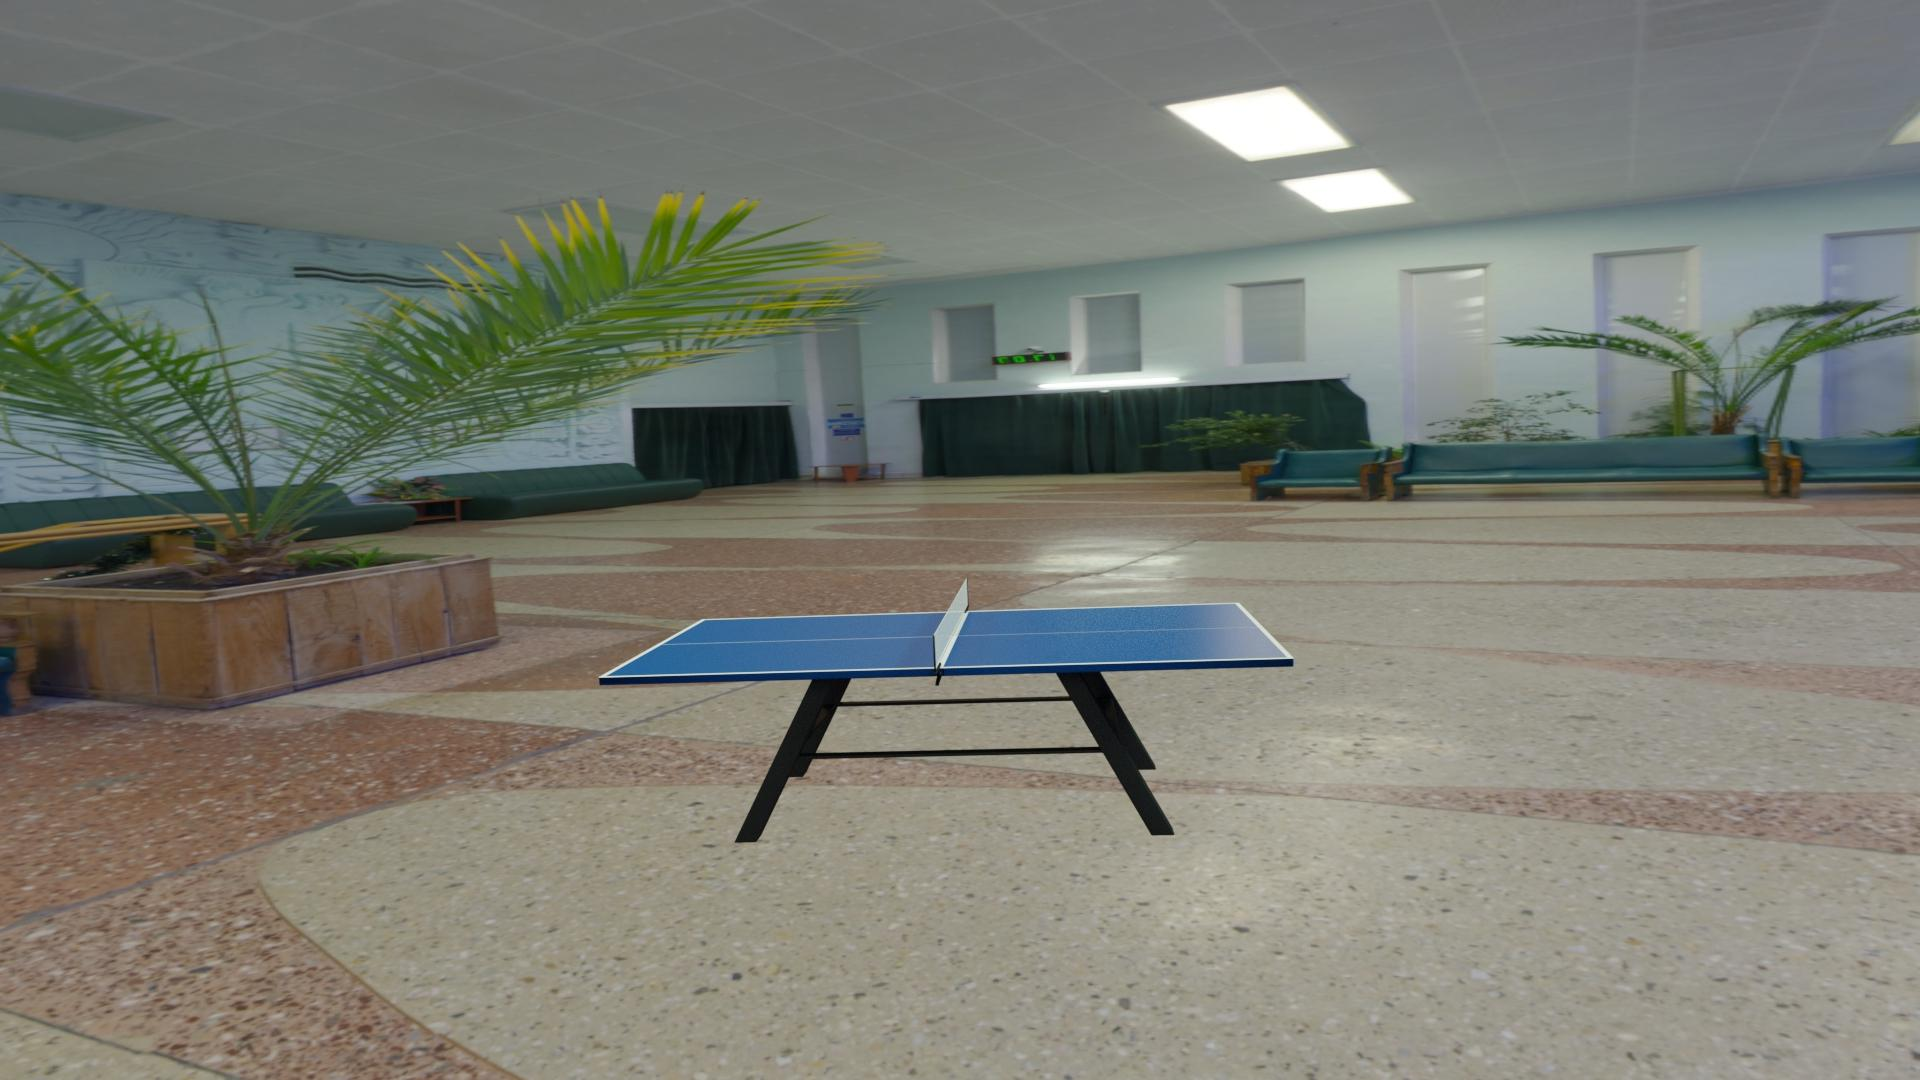table: (605, 604, 1287, 676)
